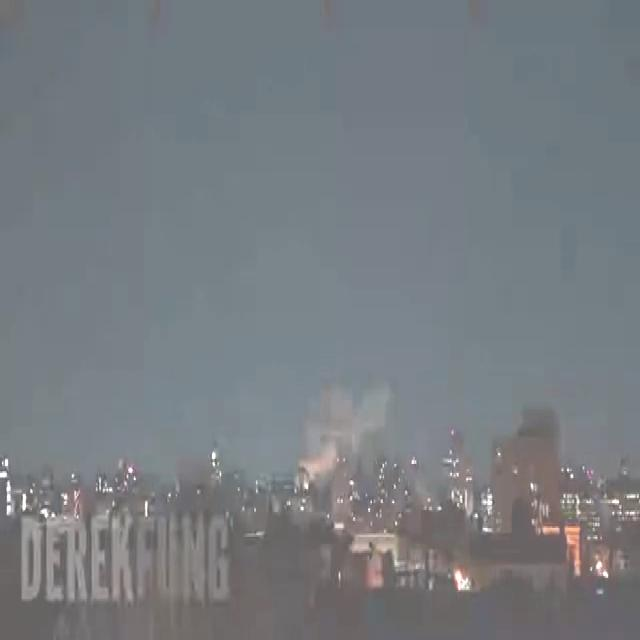smoke: (298, 384, 392, 480)
